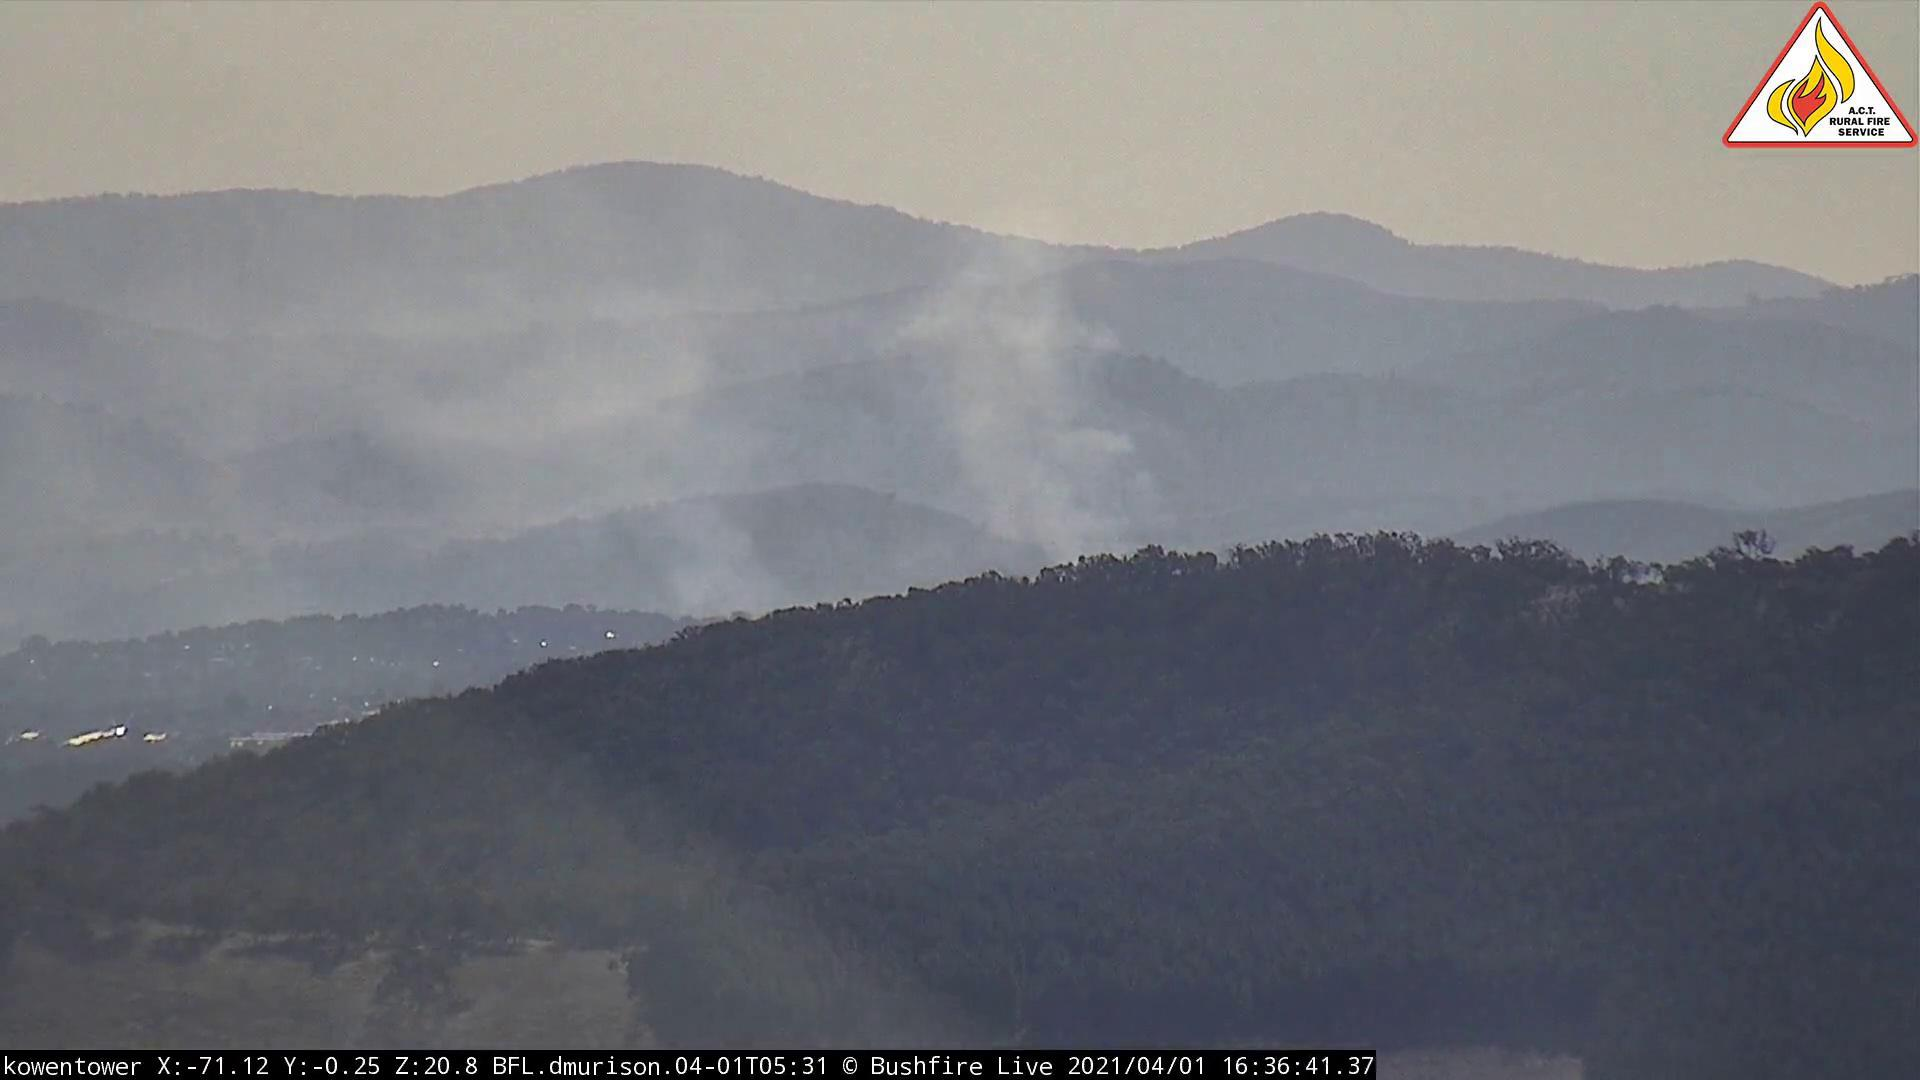Smoke: (162, 182, 1213, 673)
